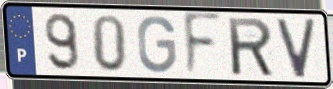0: (89, 13, 129, 73)
9: (42, 12, 82, 73)
F: (181, 10, 224, 81)
G: (136, 14, 178, 75)
R: (225, 15, 276, 78)
V: (274, 17, 319, 81)
